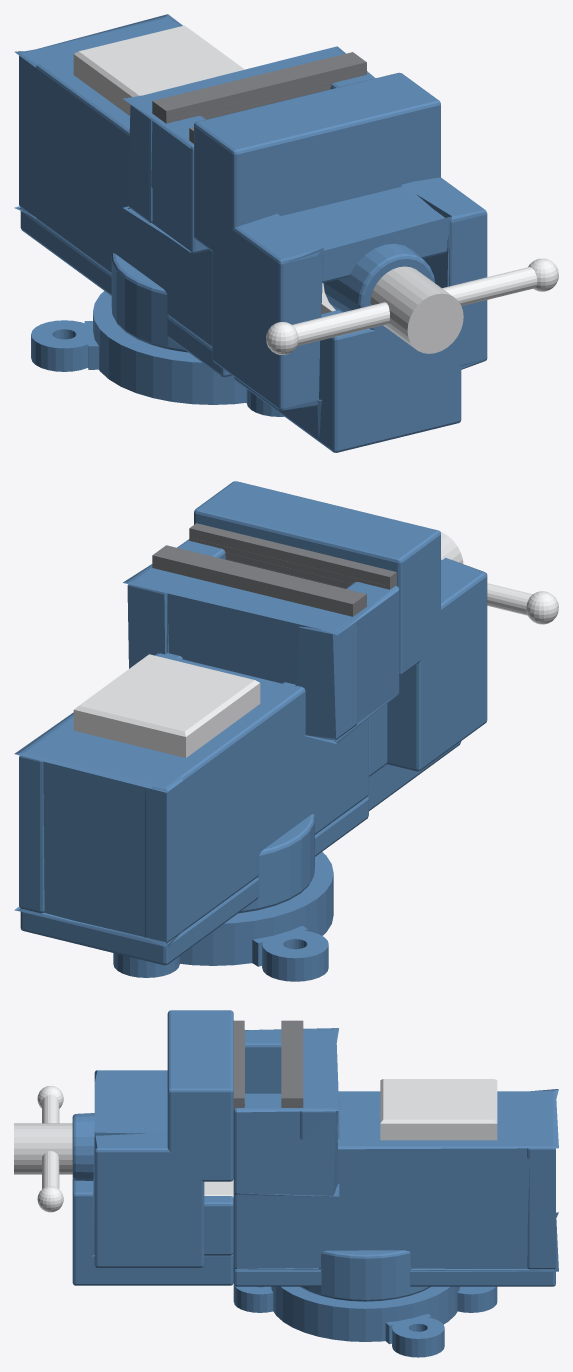
The picture shows the model from 3 angles, top to bottom: view 1: azimuth 30°, elevation 25°; view 2: azimuth 150°, elevation 25°; view 3: azimuth 270°, elevation 25°; orthographic projection. The views are drawn at different scales.
Parts seen in each view (by area): view 1: SlidingJaw, FixedBody, MountingBase, AnvilFace, FixedJawPlate, TommyBarHandle, LeadScrew; view 2: FixedBody, SlidingJaw, AnvilFace, MountingBase, FixedJawPlate, SlidingJawPlate, TommyBarHandle; view 3: FixedBody, SlidingJaw, MountingBase, AnvilFace, LeadScrew, FixedJawPlate, TommyBarHandle, SlidingJawPlate, GuideBeam.
Boxes of the visible parts, <box> form: SlidingJaw: <box>194,72,487,452</box>; FixedBody: <box>14,14,375,377</box>; MountingBase: <box>31,291,283,416</box>; AnvilFace: <box>73,25,244,115</box>; FixedJawPlate: <box>152,52,366,123</box>; TommyBarHandle: <box>266,258,558,354</box>; LeadScrew: <box>370,266,463,353</box>; FixedBody: <box>14,539,399,965</box>; SlidingJaw: <box>194,481,487,810</box>; AnvilFace: <box>73,654,260,757</box>; MountingBase: <box>113,852,333,981</box>; FixedJawPlate: <box>152,545,366,616</box>; SlidingJawPlate: <box>189,523,396,589</box>; TommyBarHandle: <box>487,583,558,624</box>; FixedBody: <box>233,1028,558,1301</box>; SlidingJaw: <box>72,1010,233,1285</box>; MountingBase: <box>233,1284,497,1357</box>; AnvilFace: <box>380,1079,497,1140</box>; LeadScrew: <box>14,1123,72,1174</box>; FixedJawPlate: <box>281,1020,303,1107</box>; TommyBarHandle: <box>37,1086,63,1212</box>; SlidingJawPlate: <box>233,1020,244,1110</box>; GuideBeam: <box>204,1179,233,1197</box>.
Bounding box in the file's own units: 0.18 × 0.19 × 0.372.
